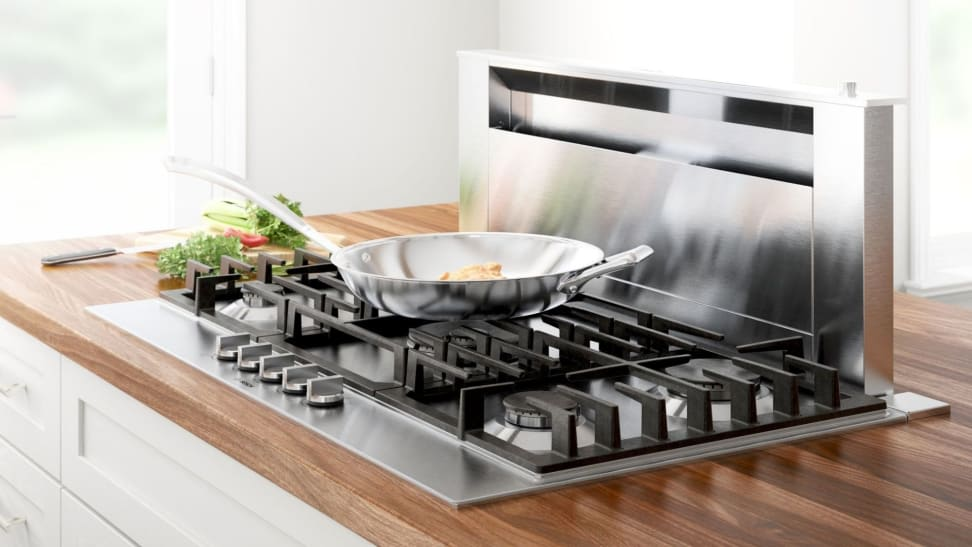stove: (125, 86, 895, 475)
